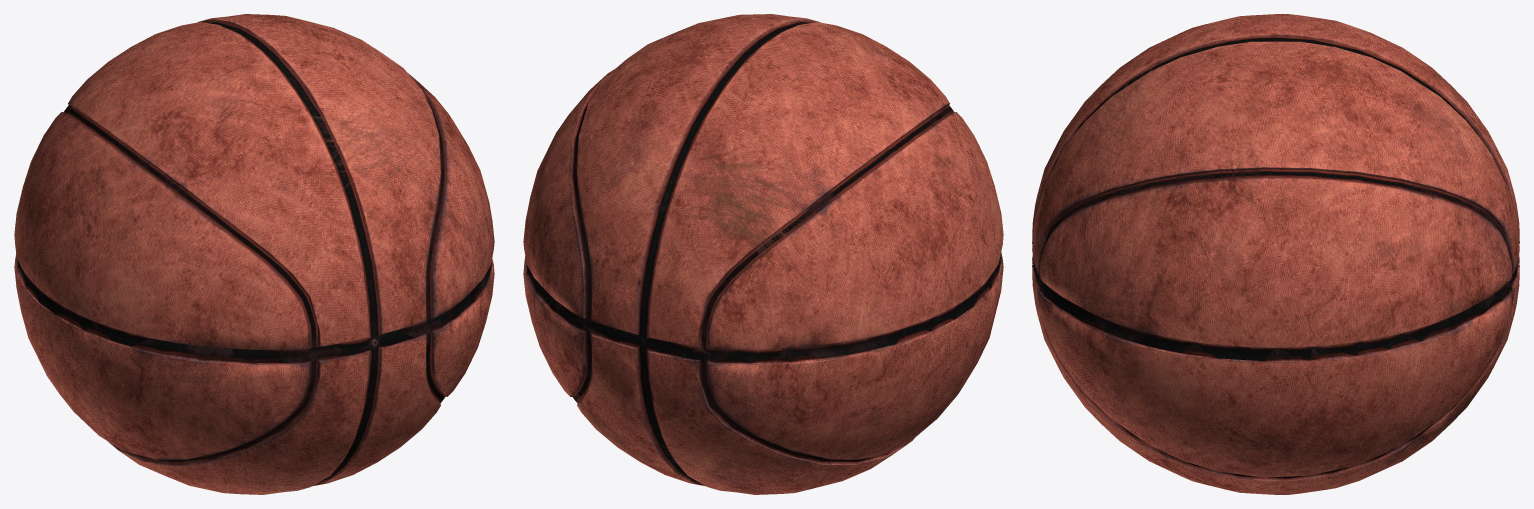
The model's file is 3break.fbx.
3 renders of one model, left to right at view 1: azimuth 30°, elevation 25°; view 2: azimuth 150°, elevation 25°; view 3: azimuth 270°, elevation 25°, orthographic.
Parts seen in each view (by area): view 1: 3.break.013, 3.break.012, 3.break.005, 3.break.014, 3.break.007, 3.break.001, 3.break.010, 3.break.009, 3.break.004; view 2: 3.break.008, 3.break.007, 3.break.001, 3.break.015, 3.break.009, 3.break.003, 3.break.002, 3.break.004, 3.break.014, 3.break.013, 3.break.010, 3.break.011; view 3: 3.break.010, 3.break.016, 3.break.015, 3.break.011, 3.break.005, 3.break.007, 3.break.002, 3.break.012, 3.break, 3.break.006, 3.break.008, 3.break.014.
Part boxes in pixels (bbox=[...]): 3.break.013: bbox=[78, 156, 319, 486]; 3.break.012: bbox=[238, 239, 489, 492]; 3.break.005: bbox=[294, 45, 450, 284]; 3.break.014: bbox=[129, 50, 307, 255]; 3.break.007: bbox=[72, 14, 327, 136]; 3.break.001: bbox=[14, 99, 130, 317]; 3.break.010: bbox=[318, 26, 492, 266]; 3.break.009: bbox=[14, 234, 188, 476]; 3.break.004: bbox=[131, 459, 318, 494]; 3.break.008: bbox=[606, 142, 804, 415]; 3.break.007: bbox=[637, 21, 912, 203]; 3.break.001: bbox=[802, 119, 990, 326]; 3.break.015: bbox=[533, 66, 685, 343]; 3.break.009: bbox=[827, 281, 994, 465]; 3.break.003: bbox=[713, 296, 876, 458]; 3.break.002: bbox=[524, 226, 681, 444]; 3.break.004: bbox=[616, 413, 898, 494]; 3.break.014: bbox=[751, 18, 945, 126]; 3.break.013: bbox=[927, 96, 1003, 328]; 3.break.010: bbox=[584, 16, 732, 96]; 3.break.011: bbox=[523, 92, 594, 294]; 3.break.010: bbox=[1070, 68, 1334, 316]; 3.break.016: bbox=[1136, 218, 1333, 454]; 3.break.015: bbox=[1329, 87, 1517, 280]; 3.break.011: bbox=[1293, 172, 1432, 430]; 3.break.005: bbox=[1043, 53, 1243, 231]; 3.break.007: bbox=[1228, 14, 1432, 118]; 3.break.002: bbox=[1383, 279, 1519, 435]; 3.break.012: bbox=[1032, 168, 1151, 461]; 3.break: bbox=[1150, 413, 1438, 494]; 3.break.006: bbox=[1109, 314, 1176, 453]; 3.break.008: bbox=[1427, 67, 1519, 281]; 3.break.014: bbox=[1082, 18, 1235, 105].
Size of the model in its own units: 100 by 100 by 102.
1 material, 1 textured.
